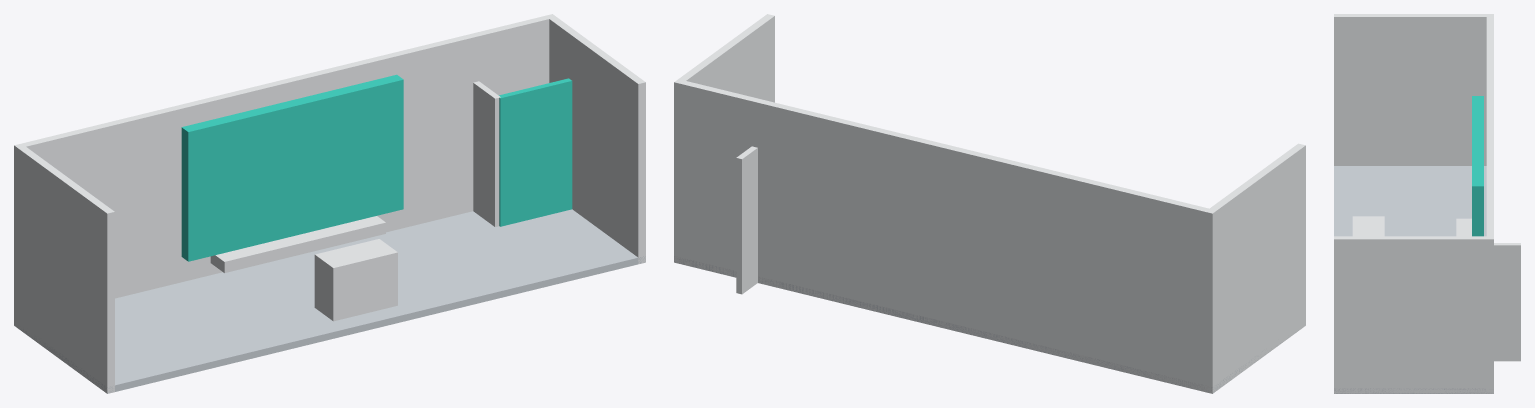
3 views of the same model, side by side, from view 1: azimuth 30°, elevation 25°; view 2: azimuth 150°, elevation 25°; view 3: azimuth 270°, elevation 25° (orthographic). The views are drawn at different scales.
Parts seen in each view (by area): view 1: Exhibition Booth Concept; view 2: Exhibition Booth Concept; view 3: Exhibition Booth Concept.
Part boxes in pixels (<box>): Exhibition Booth Concept: <box>14,14,645,393</box>; Exhibition Booth Concept: <box>674,14,1305,393</box>; Exhibition Booth Concept: <box>1334,14,1520,393</box>.
Size of the model in its own units: 10 by 3.2 by 3.51.
